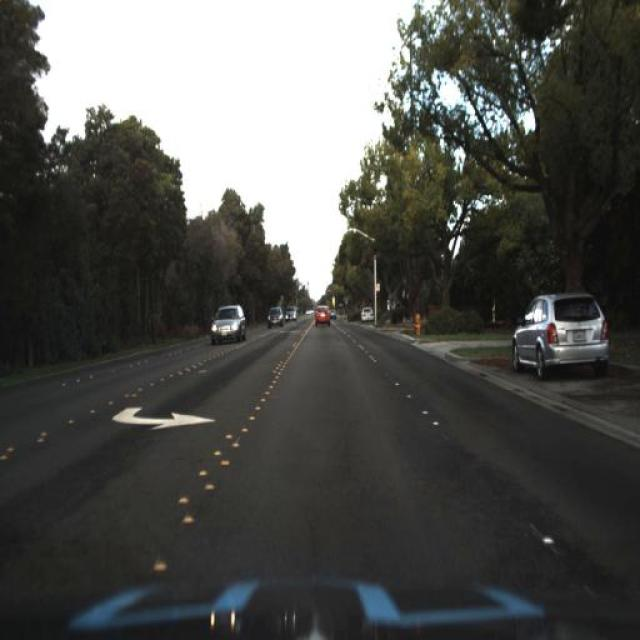car: (510, 296, 614, 382), (207, 303, 251, 347), (208, 301, 247, 350), (308, 300, 334, 336), (265, 307, 284, 332), (358, 301, 376, 323)
